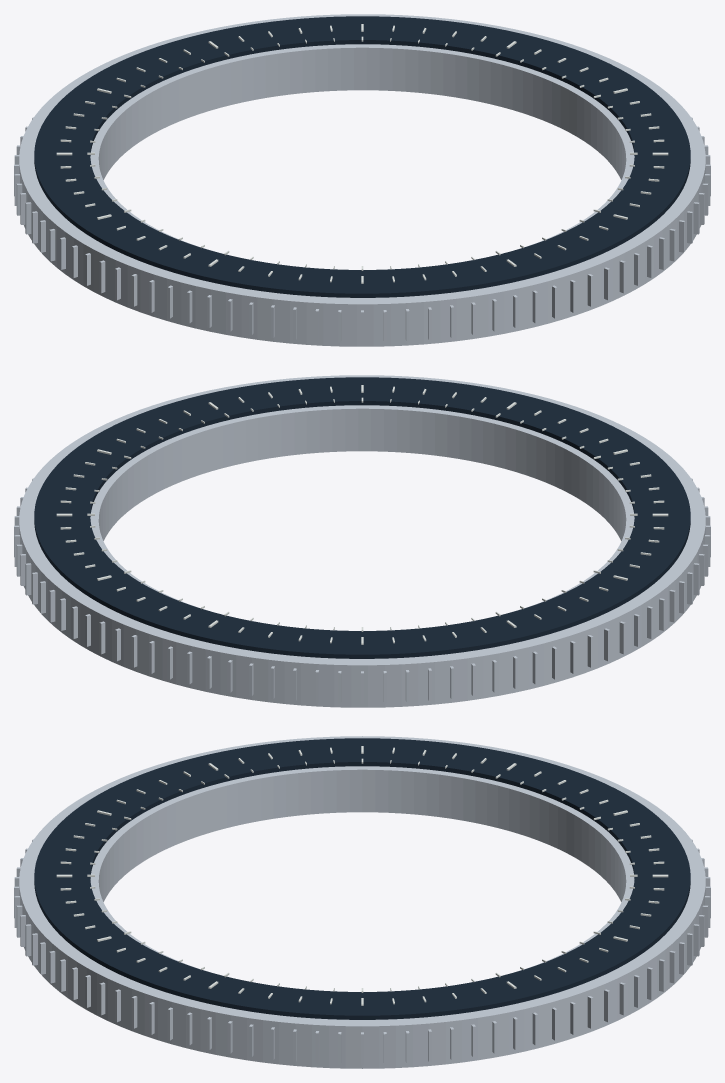
Rendered from bezel-slide-rule-42.glb.
3 views of the same model, one above another, from view 1: azimuth 30°, elevation 25°; view 2: azimuth 150°, elevation 25°; view 3: azimuth 270°, elevation 25° (orthographic).
Visible parts, largest first — view 1: DD_BEZEL_CARRIER, DD_BEZEL_INSERT; view 2: DD_BEZEL_CARRIER, DD_BEZEL_INSERT; view 3: DD_BEZEL_CARRIER, DD_BEZEL_INSERT.
Boxes of the visible parts, x1=… form: DD_BEZEL_CARRIER: x1=19, y1=14, x2=705, y2=346; DD_BEZEL_INSERT: x1=34, y1=16, x2=690, y2=297; DD_BEZEL_CARRIER: x1=19, y1=375, x2=705, y2=707; DD_BEZEL_INSERT: x1=34, y1=377, x2=690, y2=658; DD_BEZEL_CARRIER: x1=19, y1=736, x2=705, y2=1068; DD_BEZEL_INSERT: x1=34, y1=738, x2=690, y2=1019.
Bounding box in the file's own units: 41.62 × 3.21 × 41.62.
